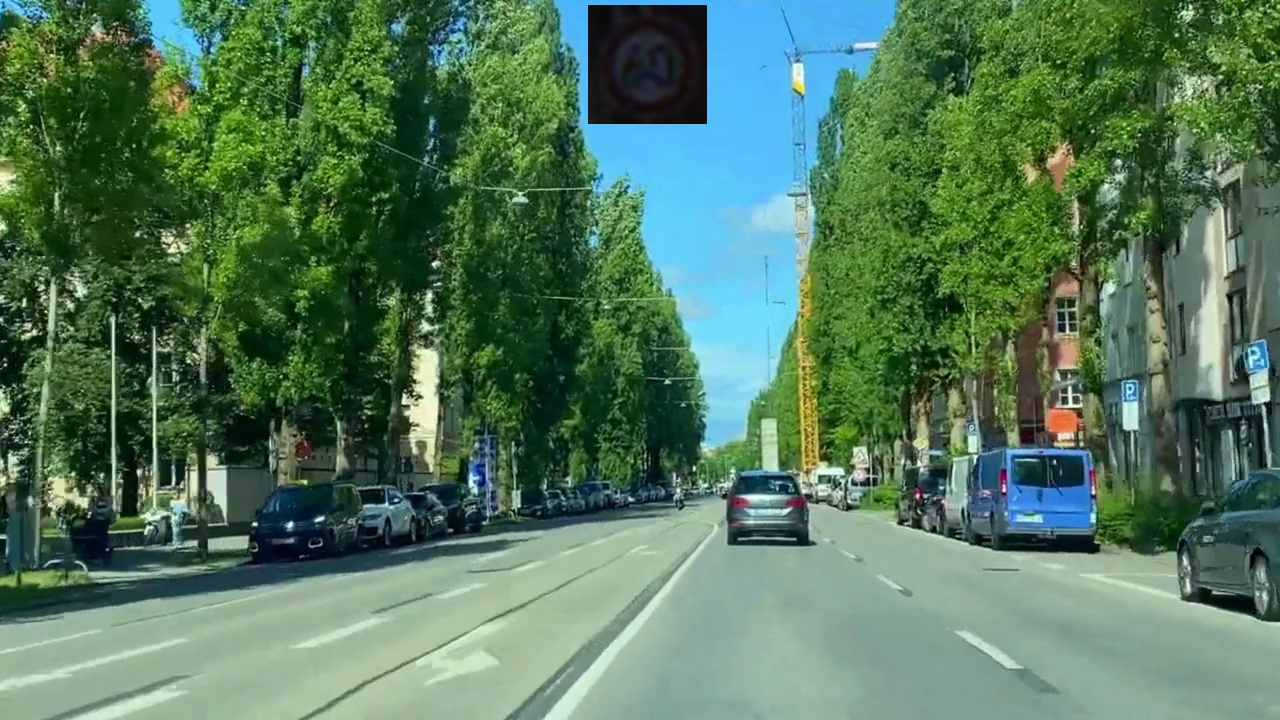Speed 60: (588, 5, 707, 124)
